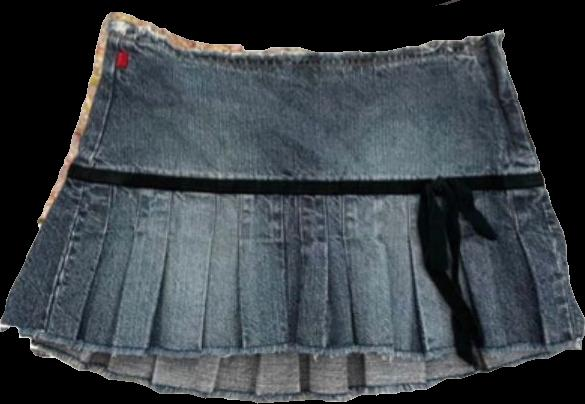Hemline: (0, 320, 584, 358)
Waistline: (111, 15, 502, 58), (67, 174, 546, 199)
